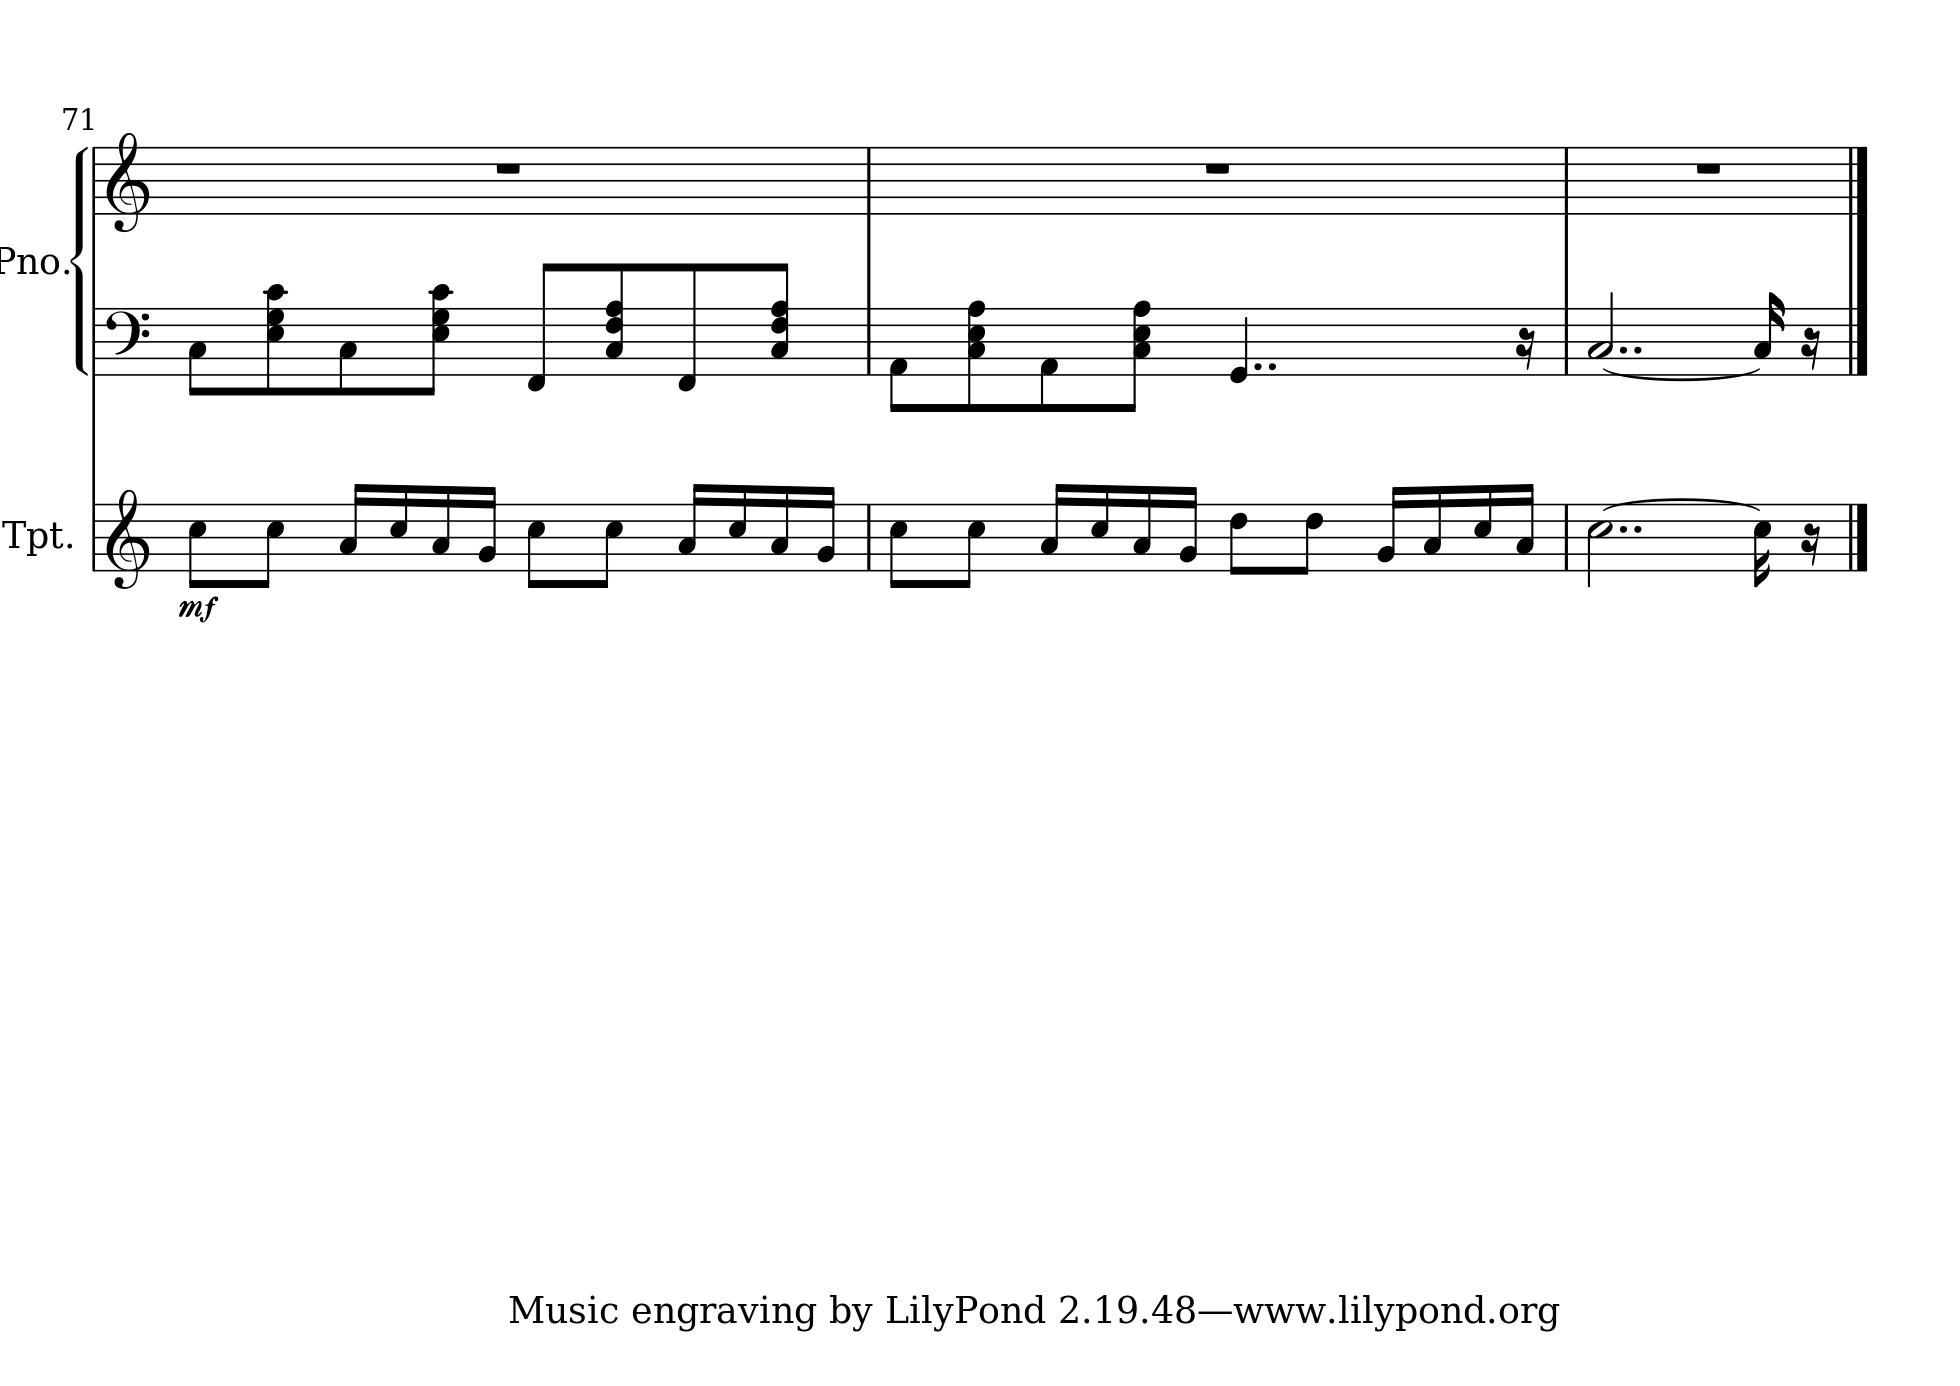1: (79, 105, 96, 133)
16_2: (1374, 484, 1404, 573), (1176, 484, 1200, 573), (814, 483, 835, 571), (475, 484, 496, 571)
16_3: (1752, 291, 1785, 376), (337, 481, 366, 571), (1039, 481, 1068, 571), (676, 481, 703, 571), (1420, 483, 1444, 573), (1131, 483, 1153, 573), (1513, 481, 1536, 571), (768, 483, 790, 571), (430, 483, 451, 571)
16_5: (726, 481, 748, 571), (388, 481, 409, 571), (1089, 481, 1110, 571), (1473, 481, 1494, 571), (1752, 501, 1773, 588)
2_3: (1587, 289, 1615, 376)
2_5: (1584, 502, 1612, 588)
4_0: (1228, 306, 1249, 385)
7: (61, 103, 79, 133)
8_-1: (522, 259, 558, 393), (672, 259, 699, 393)
8_1: (886, 304, 909, 412), (1036, 304, 1059, 412)
8_3: (186, 304, 208, 397), (336, 304, 358, 397)
8_5: (957, 501, 987, 589), (256, 501, 285, 589), (595, 501, 624, 589), (186, 499, 207, 589), (525, 501, 546, 589), (886, 501, 907, 589)
8_6: (1294, 501, 1324, 576), (1227, 501, 1248, 577)
8_th: (418, 280, 454, 397), (1123, 295, 1156, 412), (259, 280, 289, 396), (964, 294, 990, 412), (603, 262, 627, 379), (768, 259, 790, 379)
Brace: (70, 139, 90, 378)
Double_barline: (1617, 340, 1644, 355), (1620, 520, 1644, 535)
Double_dot: (1251, 358, 1278, 373)
Fclef: (100, 303, 151, 375)
Final_barline: (1843, 145, 1872, 214), (1843, 502, 1872, 571), (1842, 307, 1869, 375)
Gclef: (103, 484, 148, 589), (103, 129, 148, 232)
Pno: (1, 240, 58, 277)
Rests1: (489, 159, 525, 178), (1201, 157, 1234, 178), (1690, 159, 1725, 178)
Rests16: (1513, 324, 1537, 372), (1800, 325, 1822, 370), (1800, 520, 1821, 565)
Single_barline: (858, 147, 879, 213), (859, 502, 879, 570), (859, 307, 879, 373), (1557, 147, 1575, 213), (1558, 502, 1575, 570), (1558, 307, 1575, 373), (87, 502, 102, 571), (88, 147, 103, 214), (88, 307, 102, 373)
Slur: (1603, 366, 1761, 382), (1602, 496, 1764, 511)
Tpt: (1, 511, 64, 556)
mf: (175, 592, 220, 627)
